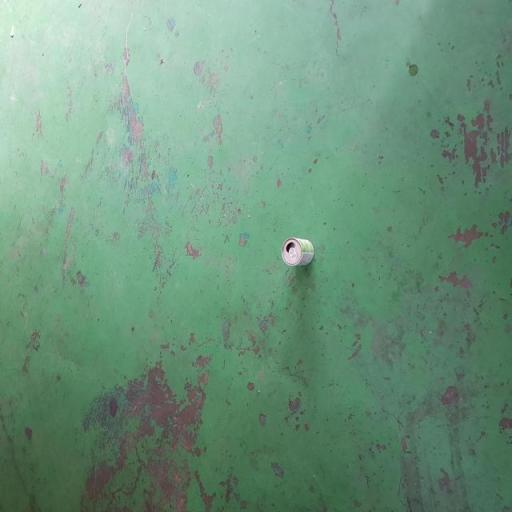metal: (270, 224, 325, 284)
